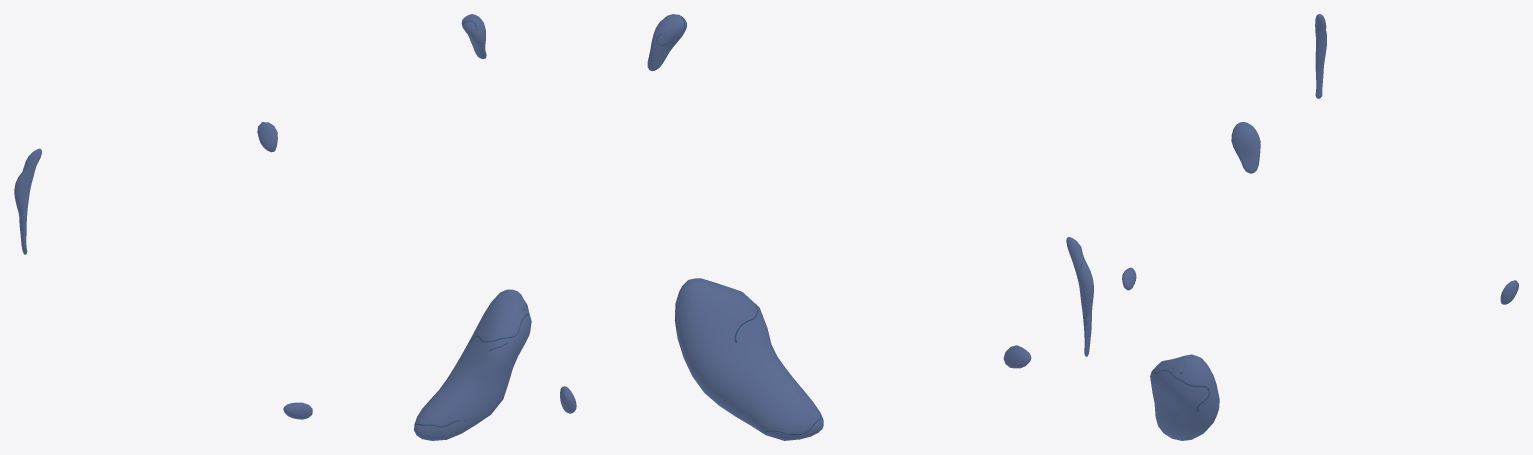
File: earthClouds.glb
3 views of the same model, side by side, from view 1: azimuth 30°, elevation 25°; view 2: azimuth 150°, elevation 25°; view 3: azimuth 270°, elevation 25° (orthographic). The views are drawn at different scales.
Visible parts, largest first — view 1: Retopo_Cube.007; view 2: Retopo_Cube.007; view 3: Retopo_Cube.007.
Boxes of the visible parts, bbox=[...] form: Retopo_Cube.007: bbox=[14, 14, 531, 440]; Retopo_Cube.007: bbox=[560, 14, 1093, 440]; Retopo_Cube.007: bbox=[1122, 14, 1518, 440].
Bounding box in the file's own units: 1.74 × 1.44 × 1.53.
1 material, 1 textured.
